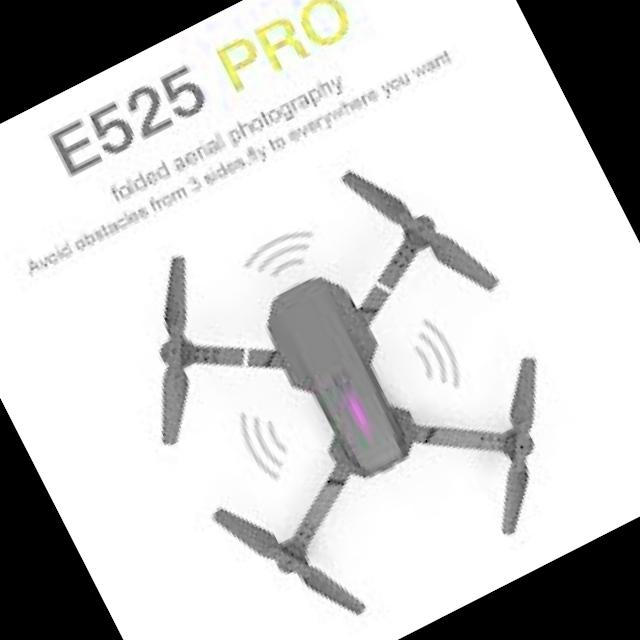drone: (58, 111, 620, 640)
